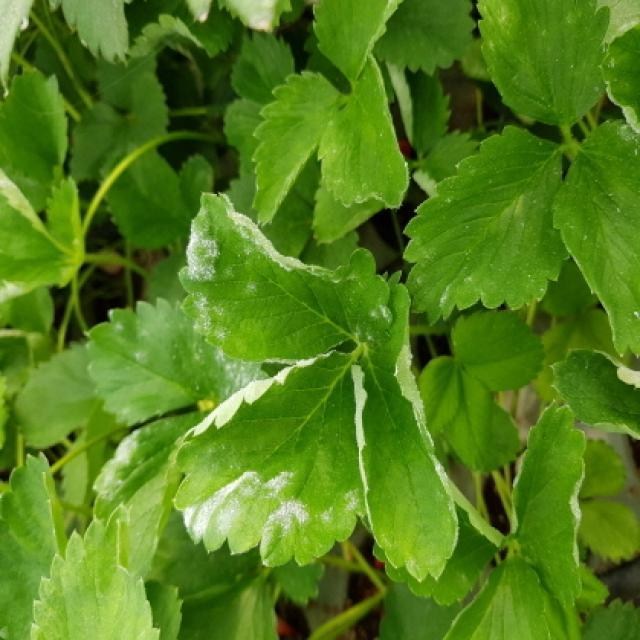powdery_mildew_leaf: (170, 349, 366, 570), (176, 189, 395, 367), (351, 269, 460, 583), (83, 296, 264, 425), (92, 410, 209, 579), (509, 397, 588, 620)
